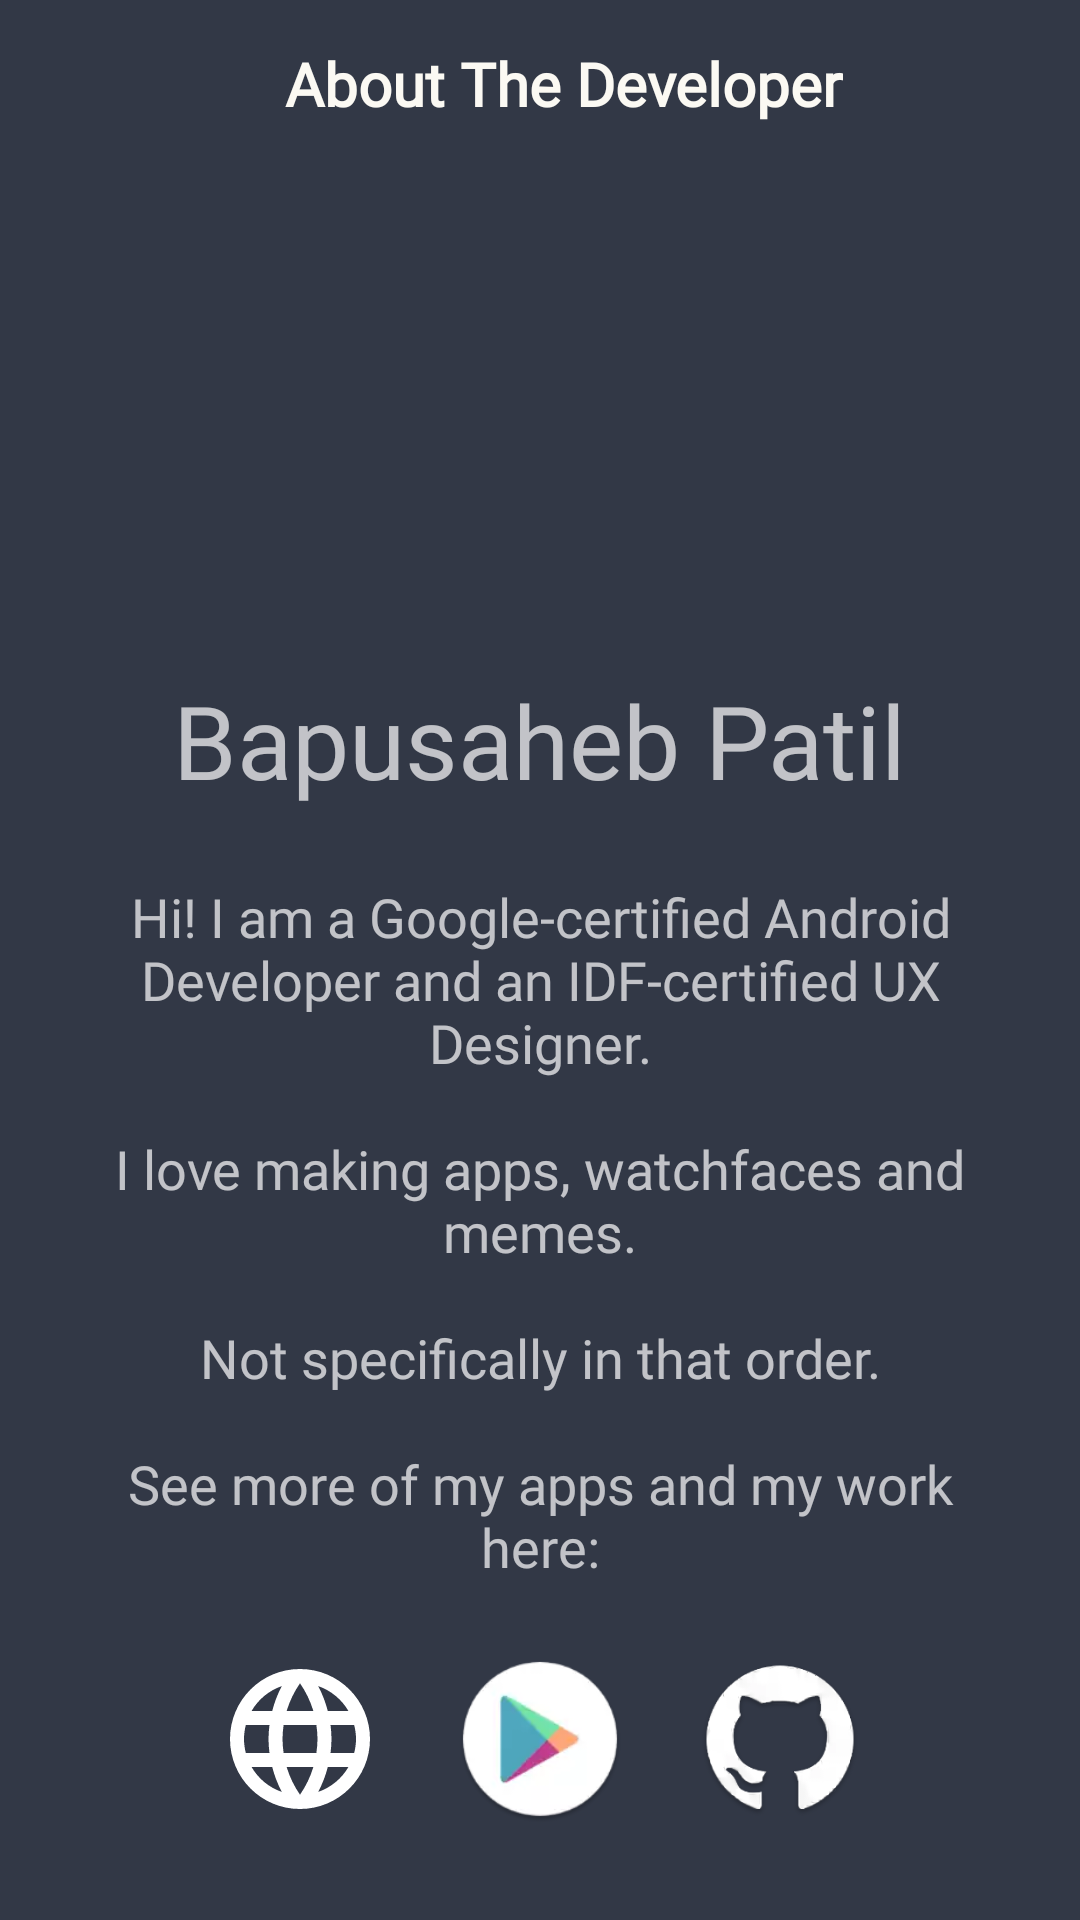

Where icons sit on this 1080×1920 app screen, as (x1, y1, x2, y2):
language: (230, 1669, 370, 1809)
